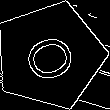O_E: (17, 26, 83, 85)
